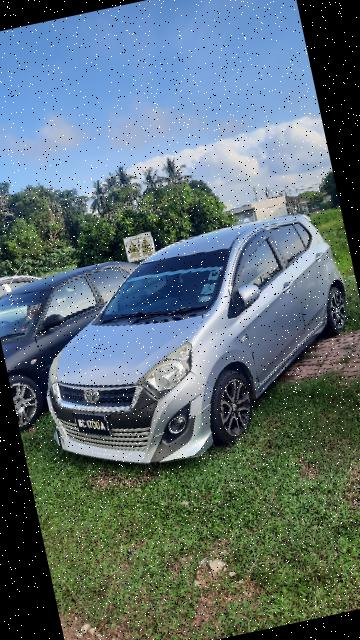License_Plate: (72, 407, 115, 446)
car: (20, 199, 360, 487), (1, 238, 168, 434)
